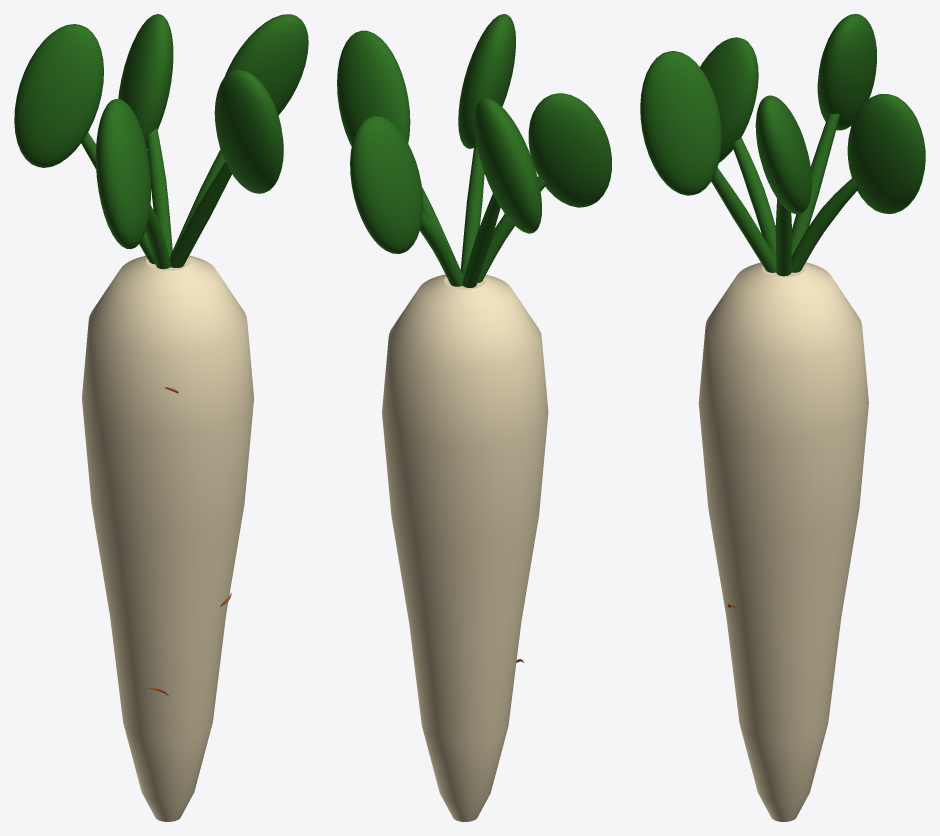
The model's file is Giant_Daikon.obj.
3 renders of one model, left to right at view 1: azimuth 30°, elevation 25°; view 2: azimuth 150°, elevation 25°; view 3: azimuth 270°, elevation 25°, orthographic. The views are drawn at different scales.
Parts seen in each view (by area): view 1: Daikon_root, Daikon_leaf.002, Daikon_leaf.004, Daikon_leaf.003, Daikon_leaf, Daikon_leaf.001, Leaf_stem.004, Leaf_stem.001, Leaf_stem.003, Leaf_stem; view 2: Daikon_root, Daikon_leaf.001, Daikon_leaf.003, Daikon_leaf, Daikon_leaf.002, Daikon_leaf.004, Leaf_stem.004, Leaf_stem.002, Leaf_stem.001, Leaf_stem.003; view 3: Daikon_root, Daikon_leaf.004, Daikon_leaf.001, Daikon_leaf.002, Daikon_leaf, Daikon_leaf.003, Leaf_stem.004, Leaf_stem.002, Leaf_stem.003, Leaf_stem.001, Leaf_stem.
Part boxes in pixels (x1,y1,x2,y2): Daikon_root: [82, 255, 253, 821]; Daikon_leaf.002: [14, 24, 103, 167]; Daikon_leaf.004: [214, 69, 283, 193]; Daikon_leaf.003: [96, 99, 150, 248]; Daikon_leaf: [224, 14, 308, 115]; Daikon_leaf.001: [118, 14, 173, 148]; Leaf_stem.004: [170, 162, 231, 267]; Leaf_stem.001: [146, 128, 172, 257]; Leaf_stem.003: [145, 205, 170, 269]; Leaf_stem: [170, 149, 225, 258]; Daikon_root: [382, 274, 548, 821]; Daikon_leaf.001: [350, 116, 423, 253]; Daikon_leaf.003: [528, 93, 611, 207]; Daikon_leaf: [337, 30, 410, 146]; Daikon_leaf.002: [474, 98, 541, 233]; Daikon_leaf.004: [458, 14, 515, 148]; Leaf_stem.004: [460, 138, 484, 277]; Leaf_stem.002: [462, 193, 500, 287]; Leaf_stem.001: [419, 213, 463, 286]; Leaf_stem.003: [477, 176, 546, 282]; Daikon_root: [698, 262, 868, 821]; Daikon_leaf.004: [640, 51, 721, 195]; Daikon_leaf.001: [847, 94, 925, 213]; Daikon_leaf.002: [817, 14, 876, 130]; Daikon_leaf: [755, 95, 811, 214]; Daikon_leaf.003: [700, 37, 758, 162]; Leaf_stem.004: [711, 167, 776, 272]; Leaf_stem.002: [791, 113, 839, 256]; Leaf_stem.003: [732, 137, 776, 257]; Leaf_stem.001: [791, 178, 858, 272]; Leaf_stem: [775, 199, 791, 276].
Size of the model in its own units: 0.4194 by 1.26 by 0.4224.
